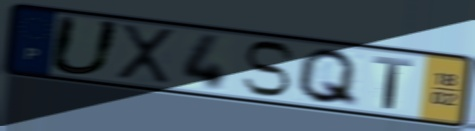4: (178, 31, 233, 94)
Q: (293, 46, 361, 109)
S: (238, 39, 298, 99)
T: (371, 53, 416, 111)
U: (44, 12, 125, 78)
X: (116, 22, 177, 86)
